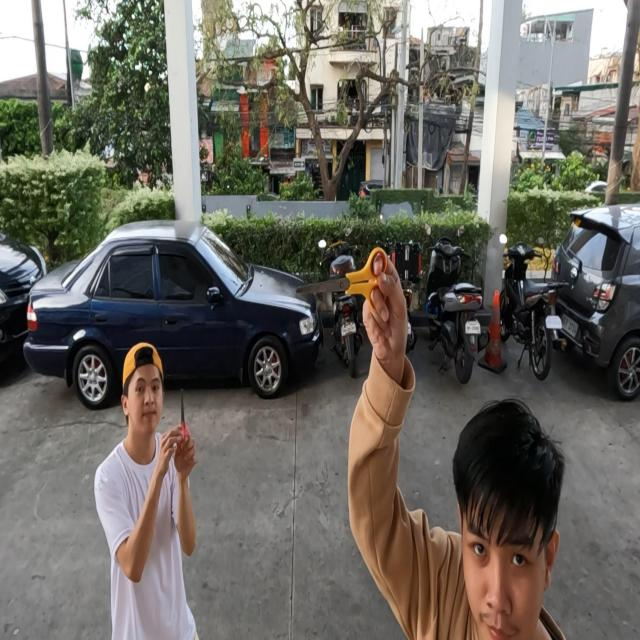scissor: (296, 245, 387, 313), (177, 386, 191, 451)
